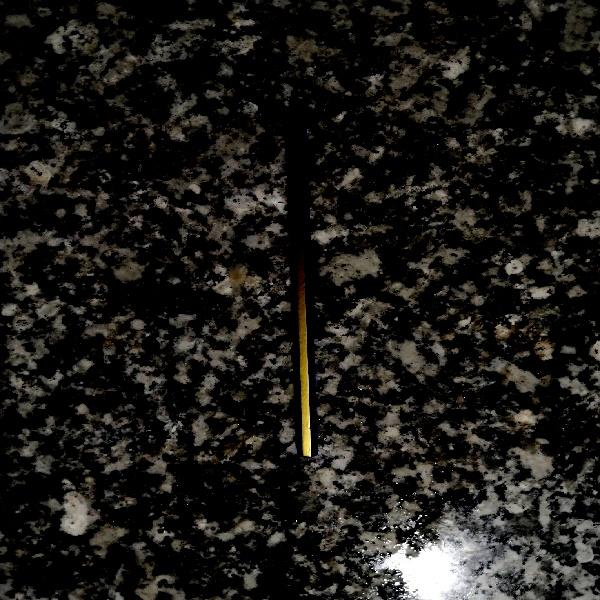pencil: (268, 86, 324, 456)
